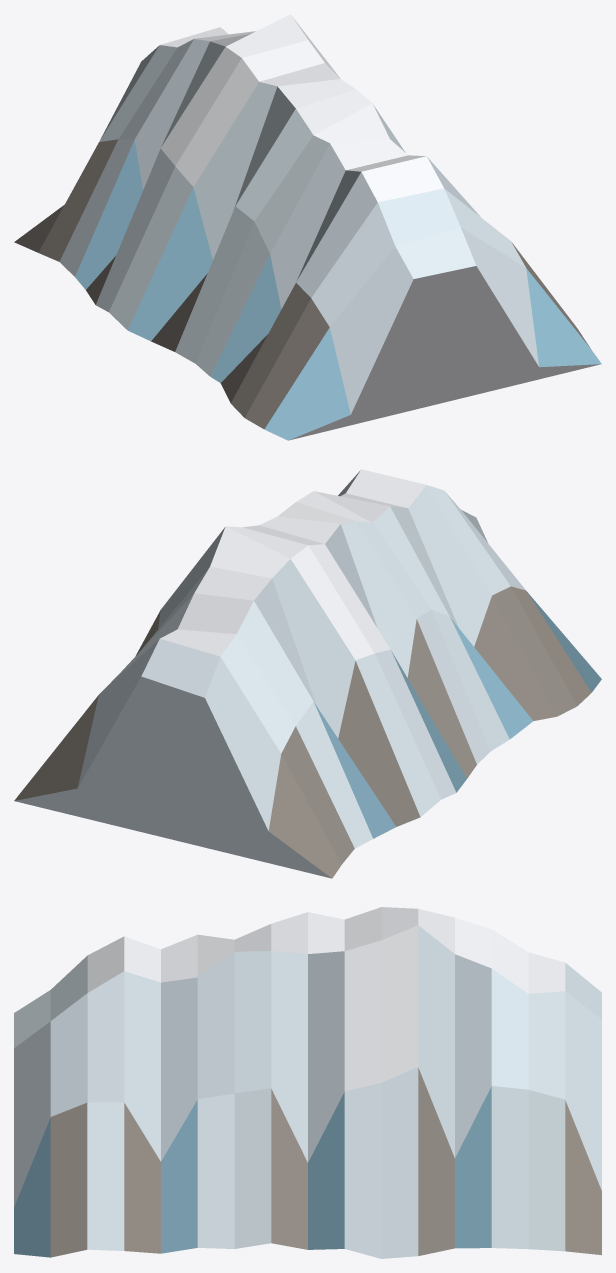
File: Glacier.fbx
3 views of the same model, one above another, from view 1: azimuth 30°, elevation 25°; view 2: azimuth 150°, elevation 25°; view 3: azimuth 270°, elevation 25° (orthographic). The views are drawn at different scales.
Parts seen in each view (by area): view 1: Glacier; view 2: Glacier; view 3: Glacier.
Part boxes in pixels (x1,y1,x2,y2): Glacier: [14, 14, 601, 440]; Glacier: [14, 469, 601, 878]; Glacier: [14, 907, 601, 1258].
Bounding box in the file's own units: 6.36 × 4.44 × 9.
